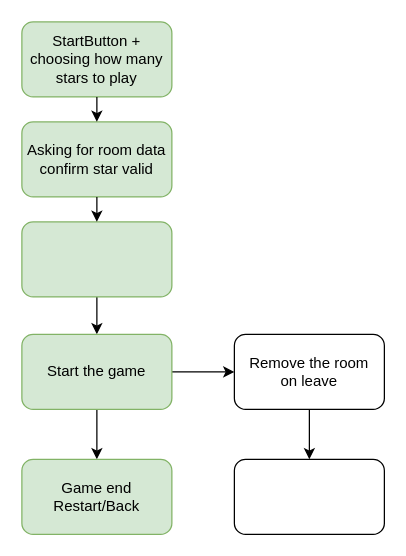
The diagram is 406 pixels wide and 556 high, and some of its shapes have lost their labels. The centre of each missing label's shape, as x and y in pixels:
Build a room: [96,259]
Store data for recover: [308,496]
